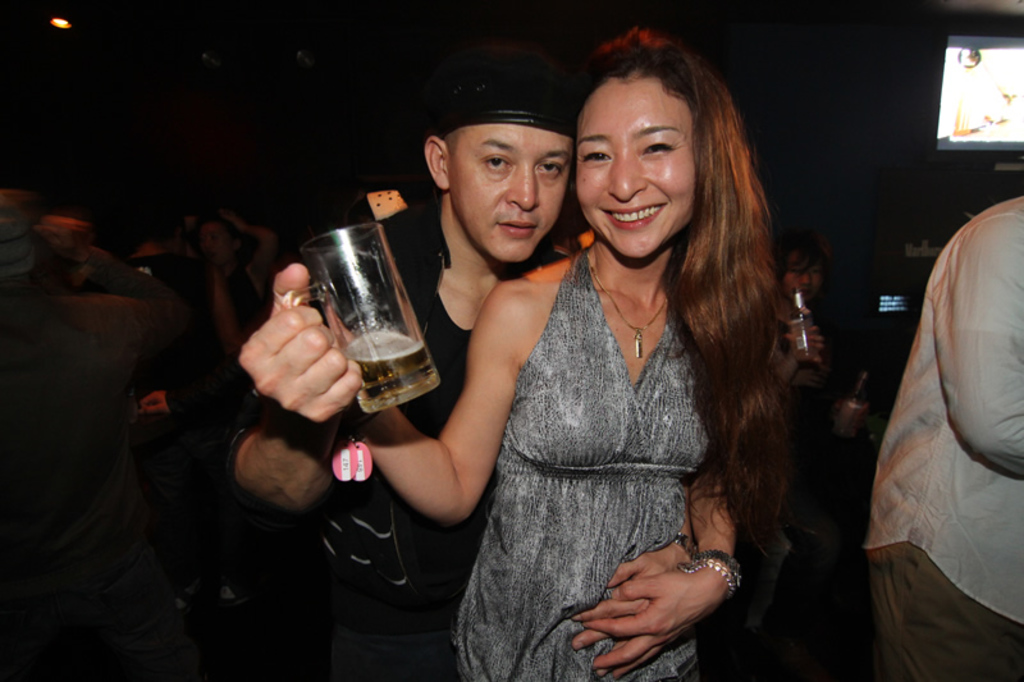Beer: (350, 331, 436, 404)
